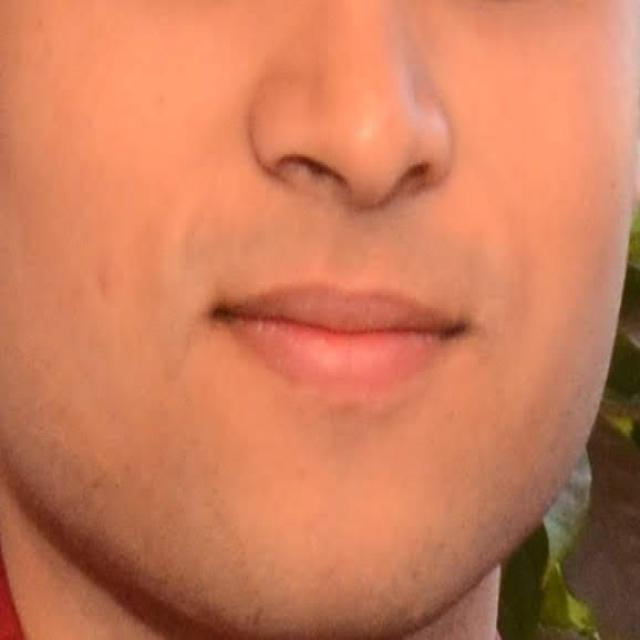normal_tongue: (171, 202, 560, 448)
